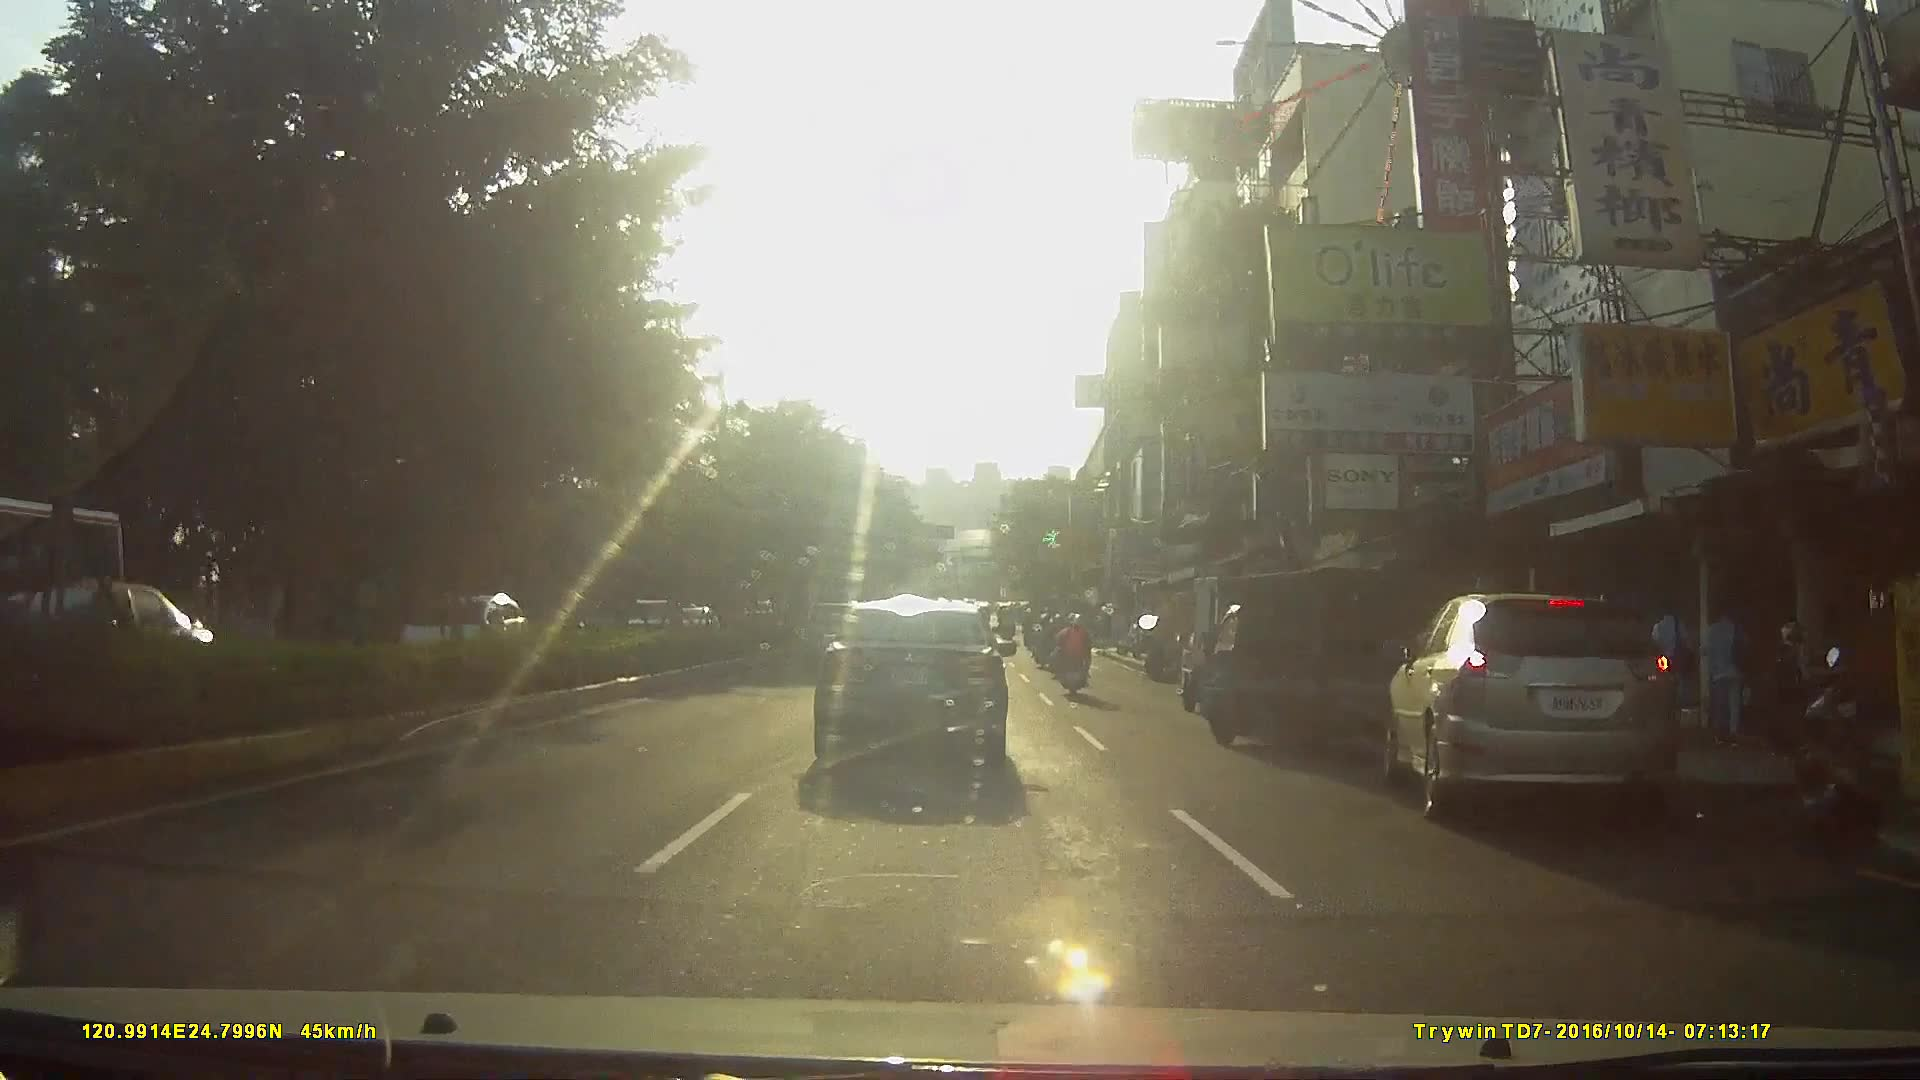pedestrian: (1647, 593, 1706, 753), (1697, 593, 1757, 745)
rider: (1048, 608, 1090, 698), (1030, 608, 1055, 665)
vehicle: (1369, 583, 1698, 847), (1186, 556, 1434, 767), (809, 591, 1028, 779), (1, 496, 141, 681), (395, 590, 532, 680)
